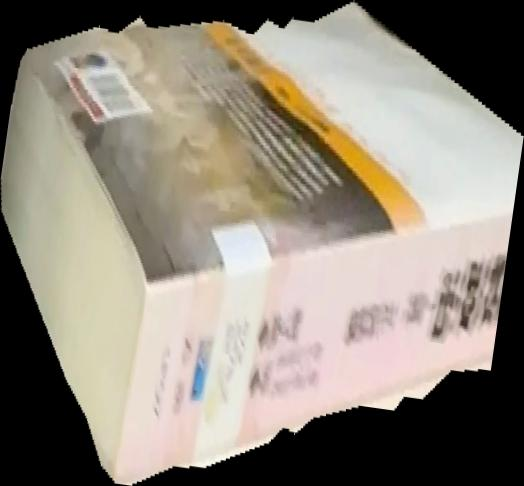flat: (1, 1, 524, 486)
